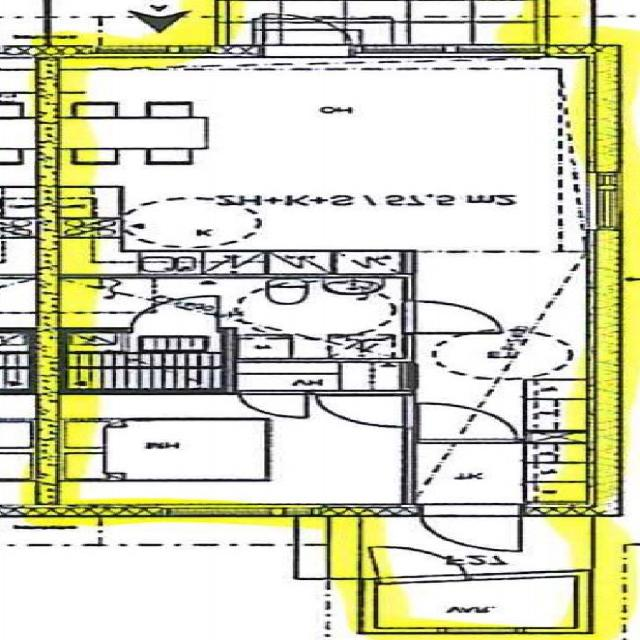door: (422, 505, 520, 552), (368, 543, 467, 585), (421, 404, 518, 444), (263, 12, 350, 56), (132, 296, 218, 334), (404, 302, 503, 334), (320, 396, 417, 427), (239, 390, 308, 420)
